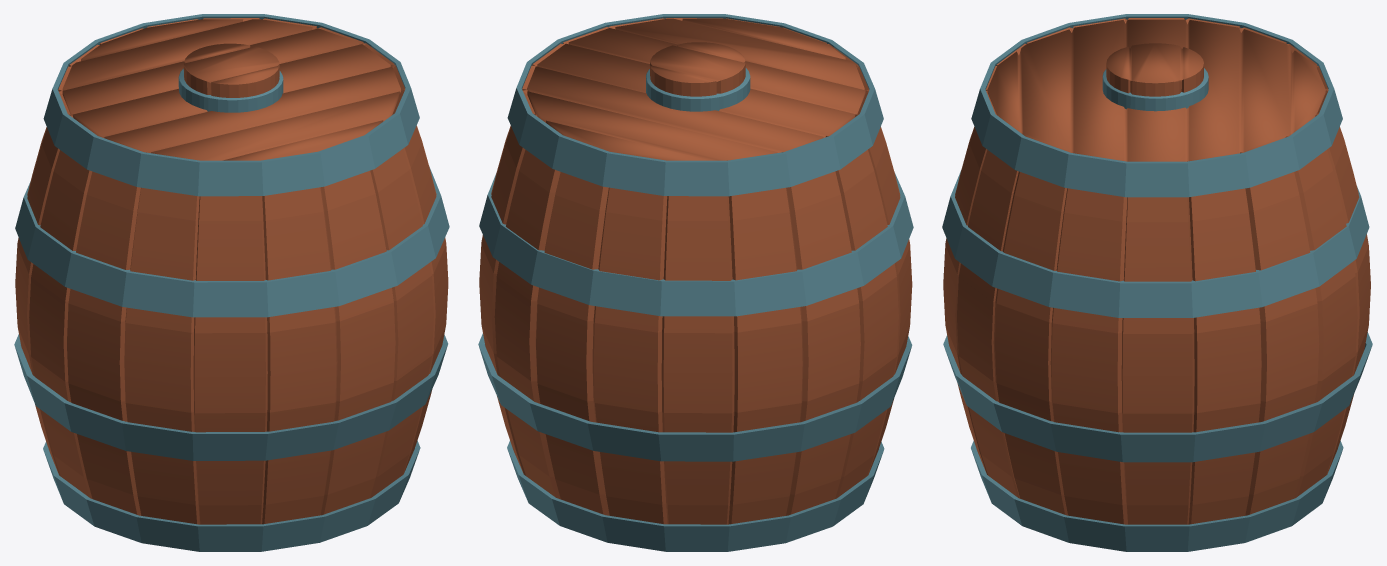
The model's file is Barrel_V02.fbx.
3 renders of one model, left to right at view 1: azimuth 30°, elevation 25°; view 2: azimuth 150°, elevation 25°; view 3: azimuth 270°, elevation 25°, orthographic.
Visible parts, largest first — view 1: Barrel_V02, Barrel Rings.001; view 2: Barrel_V02, Barrel Rings.001; view 3: Barrel_V02, Barrel Rings.001.
Part boxes in pixels (bbox=[...]): Barrel_V02: bbox=[15, 18, 448, 524]; Barrel Rings.001: bbox=[14, 14, 449, 551]; Barrel_V02: bbox=[479, 18, 912, 524]; Barrel Rings.001: bbox=[478, 14, 913, 551]; Barrel_V02: bbox=[943, 18, 1370, 524]; Barrel Rings.001: bbox=[942, 14, 1372, 551].
Size of the model in its own units: 130 by 139 by 131.
